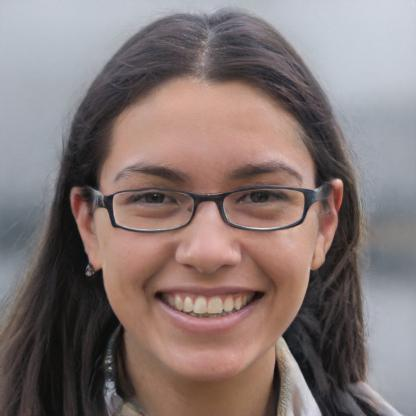glasses: (98, 181, 321, 238)
